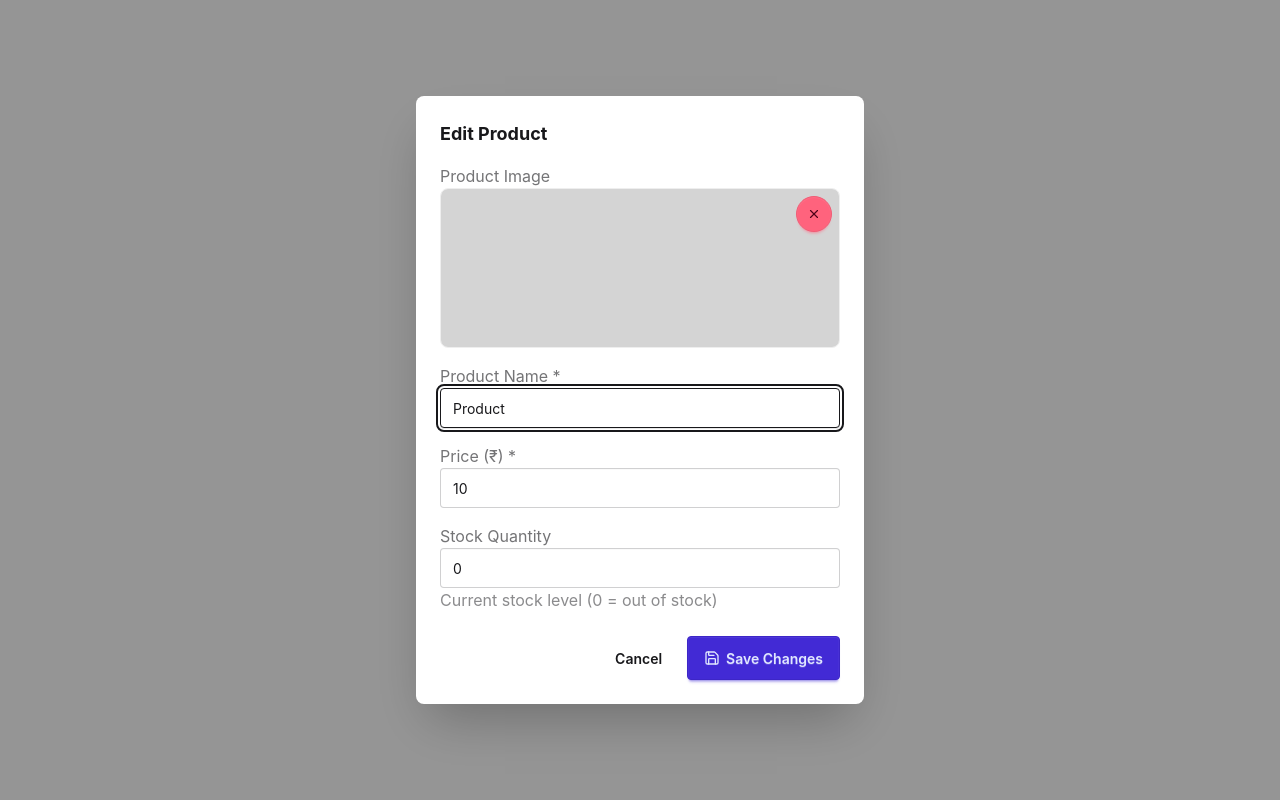
Test: ProductForm › Image upload › removes image when remove button is clicked
# The remove button is inside the image preview area, use the X icon's parent button
Click the 1st button at (814, 214), box x1=796 y1=196 x2=832 y2=232
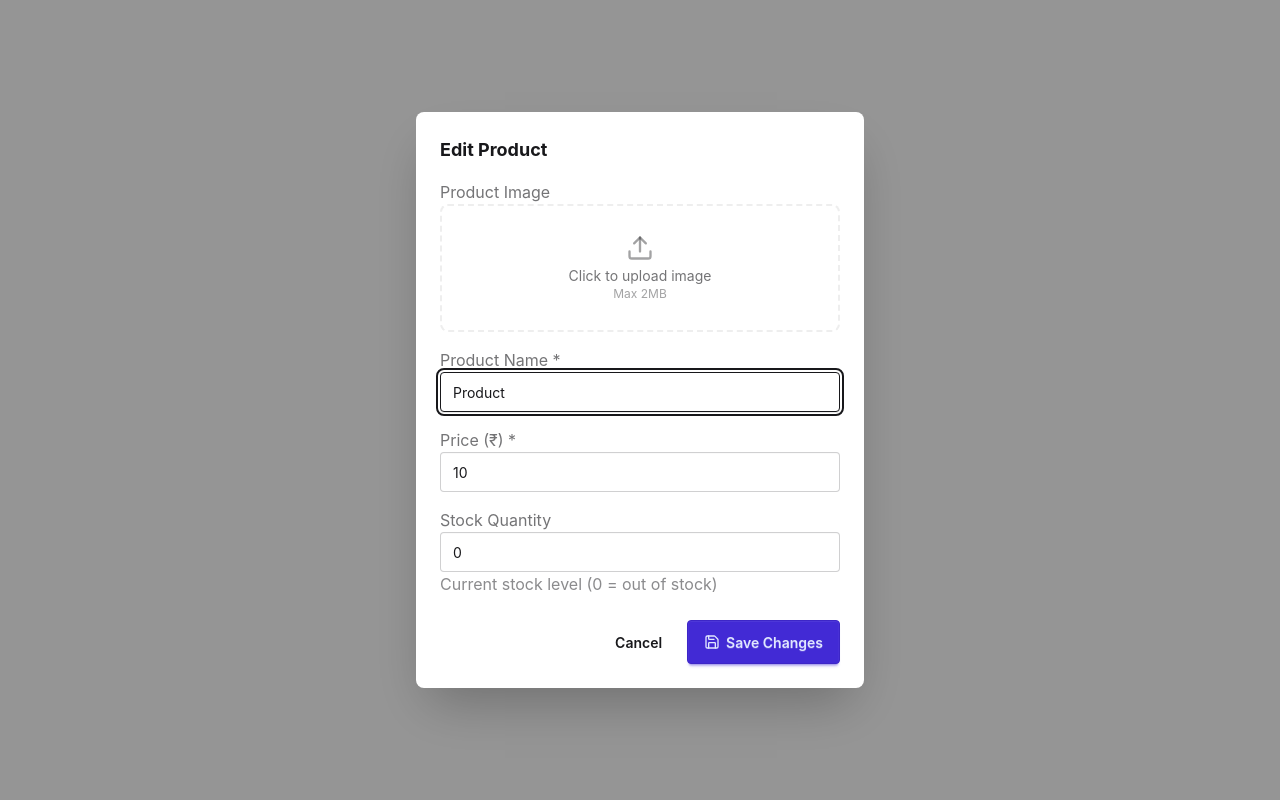
Check: the text "Click to upload image" is shown, box x1=569 y1=266 x2=711 y2=286
